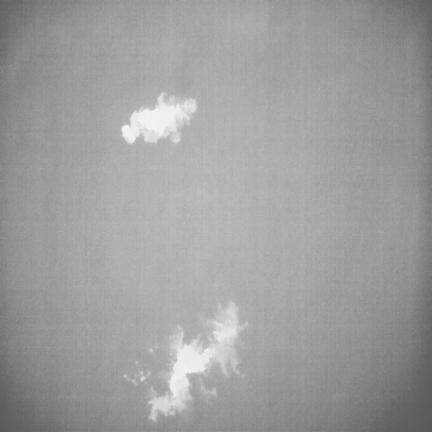flukeprints: (122, 93, 196, 143), (209, 301, 246, 375), (169, 343, 213, 402), (148, 394, 190, 421)
